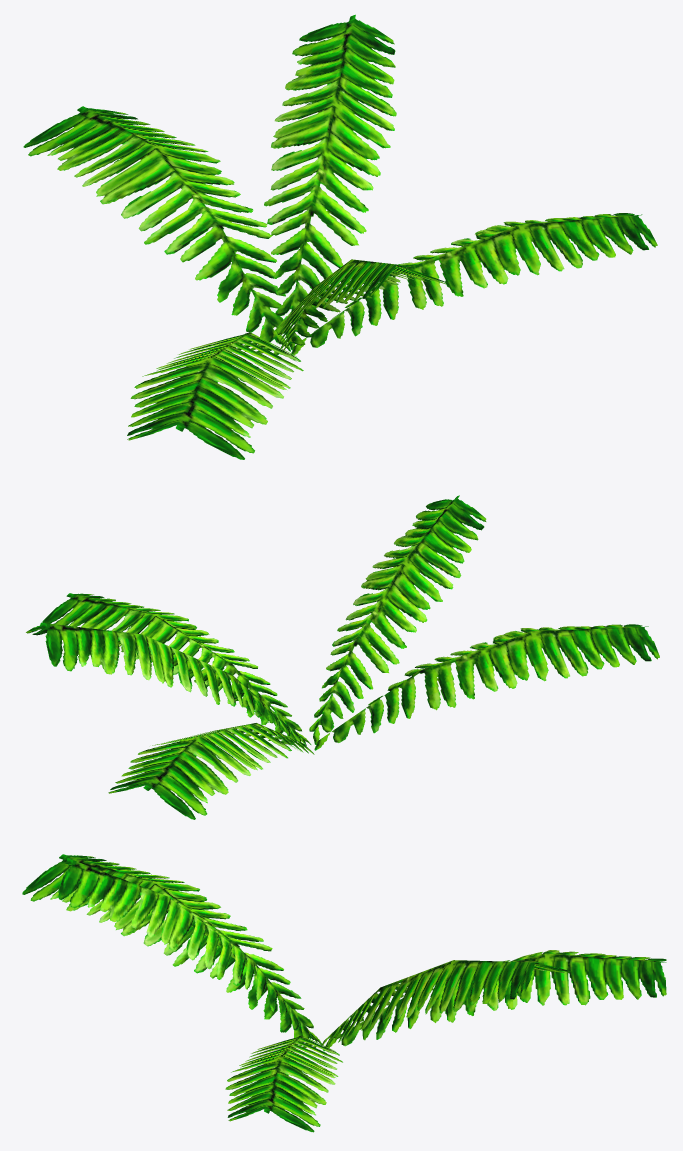
The model's file is INST_EKH_FERN_PLANT_01.obj.
3 renders of one model, top to bottom at view 1: azimuth 30°, elevation 25°; view 2: azimuth 150°, elevation 25°; view 3: azimuth 270°, elevation 25°, orthographic. The views are drawn at different scales.
Visible parts, largest first — view 1: Inst_Fern_; view 2: Inst_Fern_; view 3: Inst_Fern_.
Boxes of the visible parts, x1,y1,x2,y2 form: Inst_Fern_: (23, 14, 657, 459); Inst_Fern_: (26, 495, 659, 819); Inst_Fern_: (22, 854, 666, 1132).
Size of the model in its own units: 96.09 by 32.95 by 98.55.
